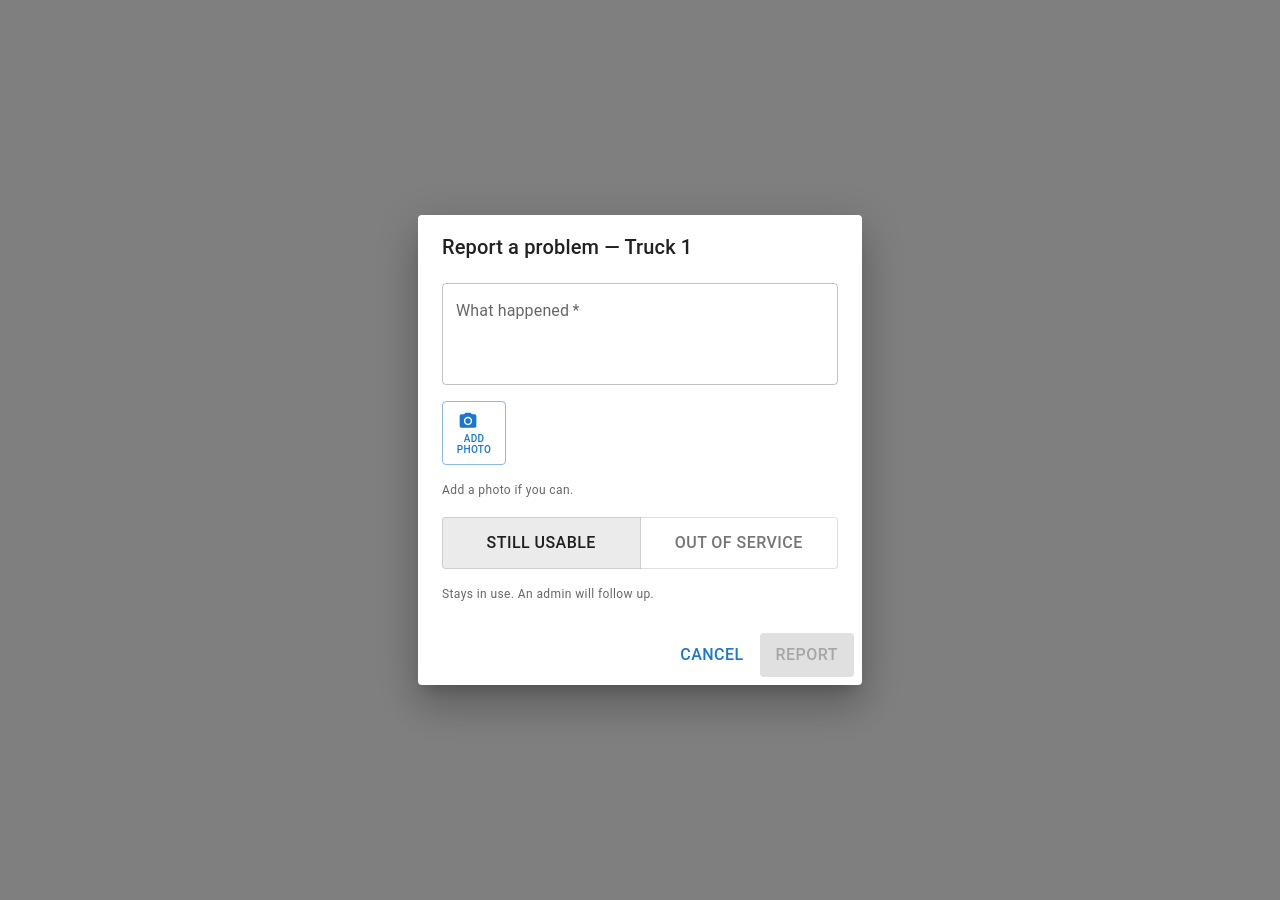
Test: ReportProblemDialog — photos never block (UXP-3 3g / D36) › a vehicle report keeps the plain "Report" label with 0 photos (was never photo-gated)
Type "oil leak" into the text box labelled "What happened *".
click(640, 334); type("oil leak")  # box [456,300,824,369]
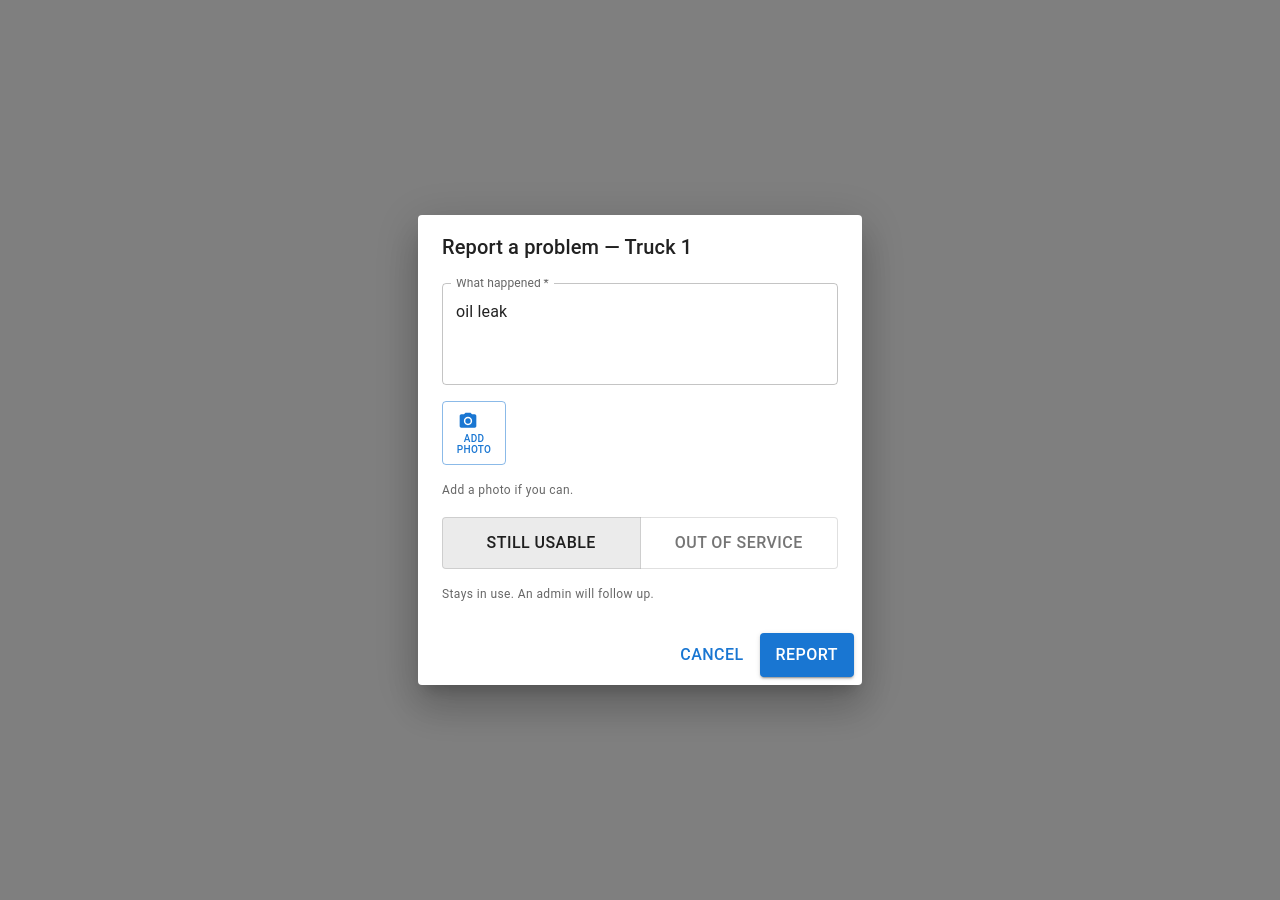
Expected: the text "Add a photo if you can." is shown, [442,483,574,497]
Expected: the button "Report" is enabled, [760,633,854,677]
